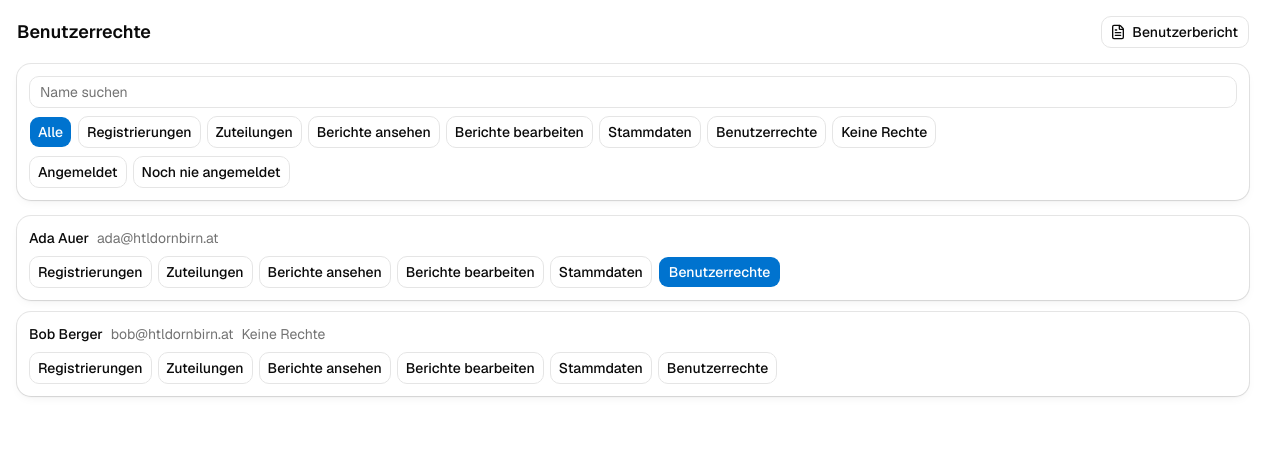
UserPermissionsView › does not re-run it when the change was refused
This screenshot has width=1267, height=451.
Click the 2nd button "Stammdaten": (601, 272) [557,262,645,282]
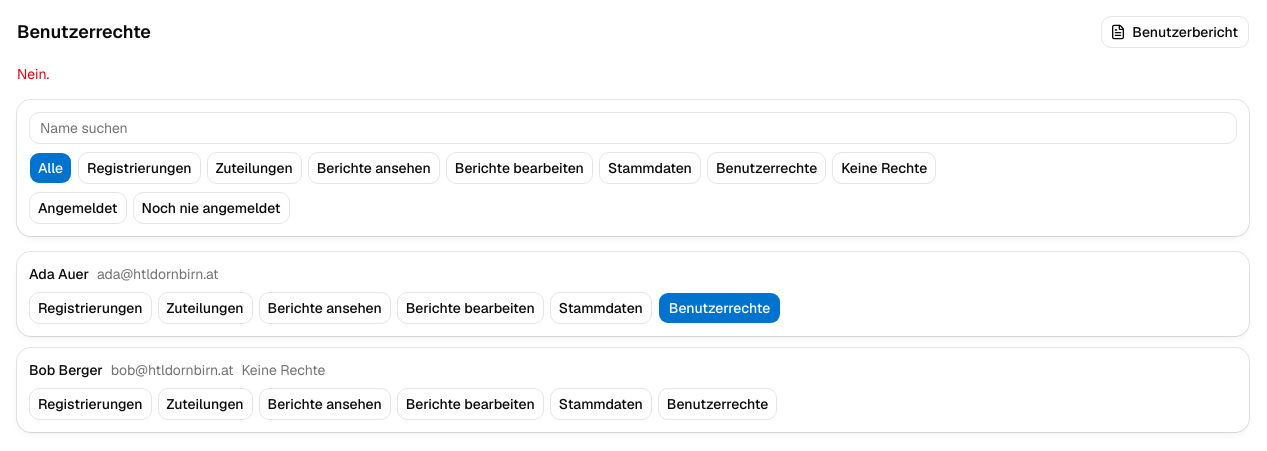
Now the message "Nein." is shown, box [17,65,49,83]
